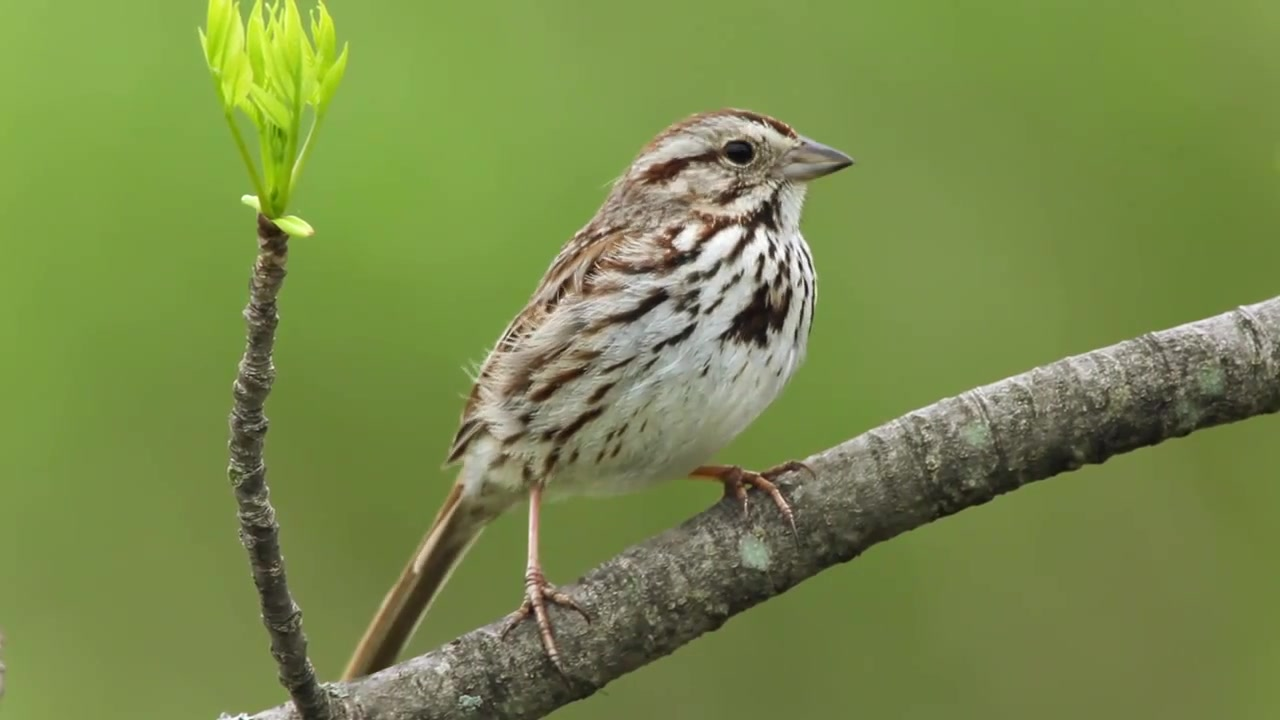bird: (339, 105, 859, 690)
